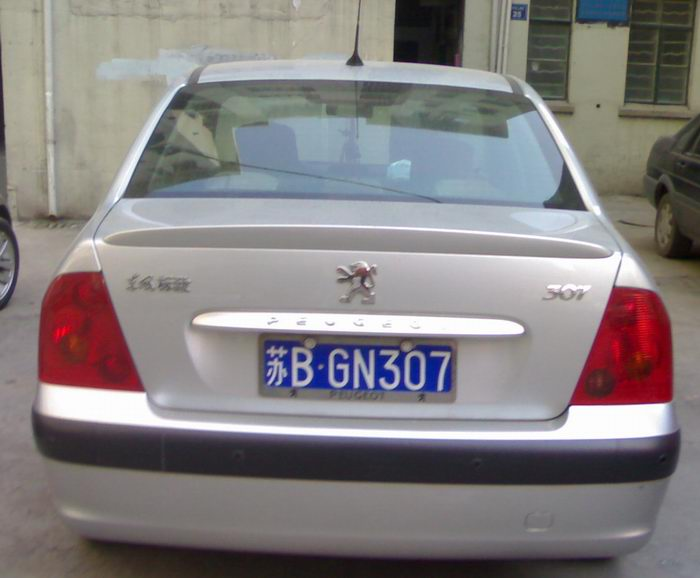plate_number: (259, 340, 460, 395)
